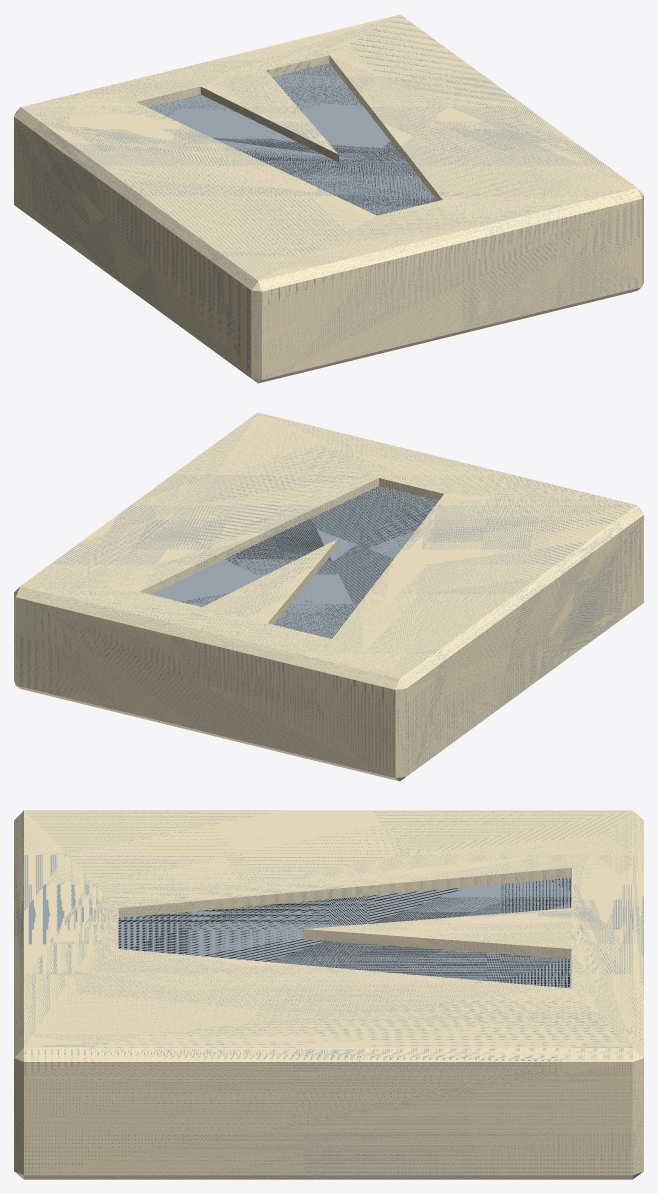
The model's file is Boardgame_Anagram_Tile_V.fbx.
3 renders of one model, top to bottom at view 1: azimuth 30°, elevation 25°; view 2: azimuth 150°, elevation 25°; view 3: azimuth 270°, elevation 25°, orthographic. The views are drawn at different scales.
Visible parts, largest first — view 1: Model; view 2: Model; view 3: Model.
Part boxes in pixels (<box>): Model: <box>14,14,643,383</box>; Model: <box>14,412,643,781</box>; Model: <box>14,810,643,1179</box>.
Size of the model in its own units: 195 by 48.83 by 212.
